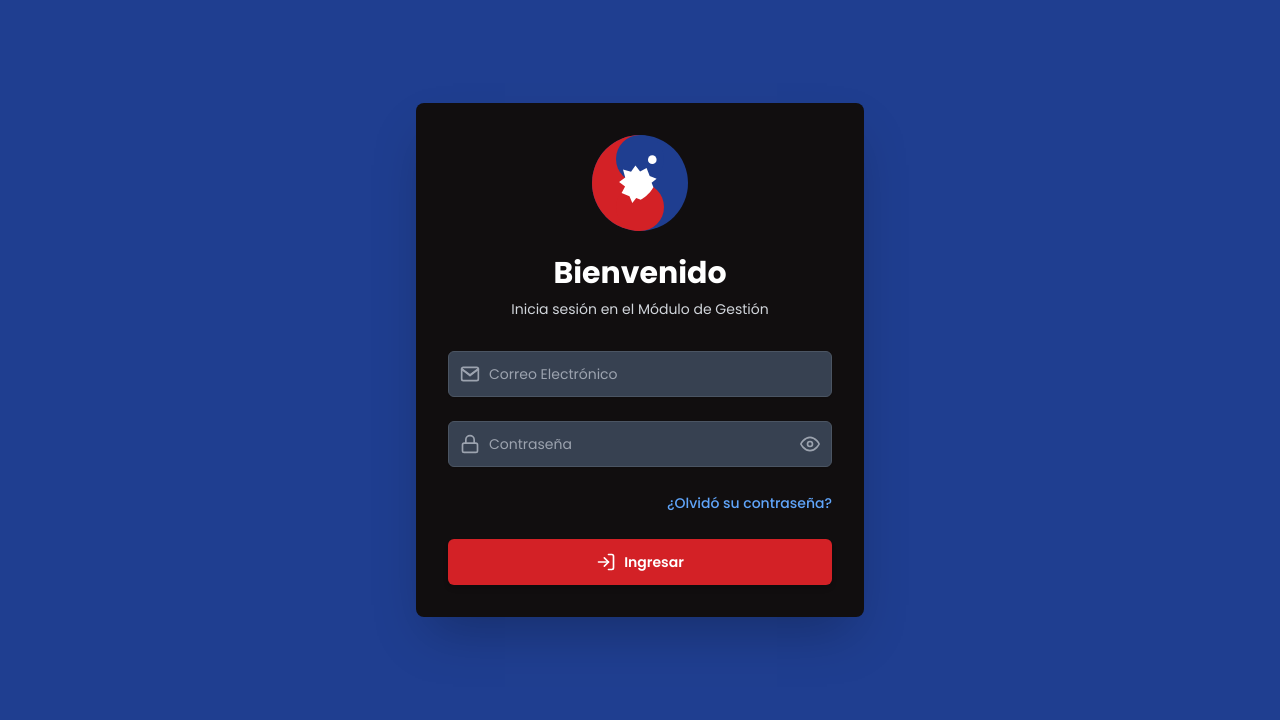
Test: Login Flow E2E › should allow a valid user to log in and see the dashboard
Type "admin@test.com" into the field with id "email" at (640, 374), box x1=448 y1=351 x2=832 y2=397
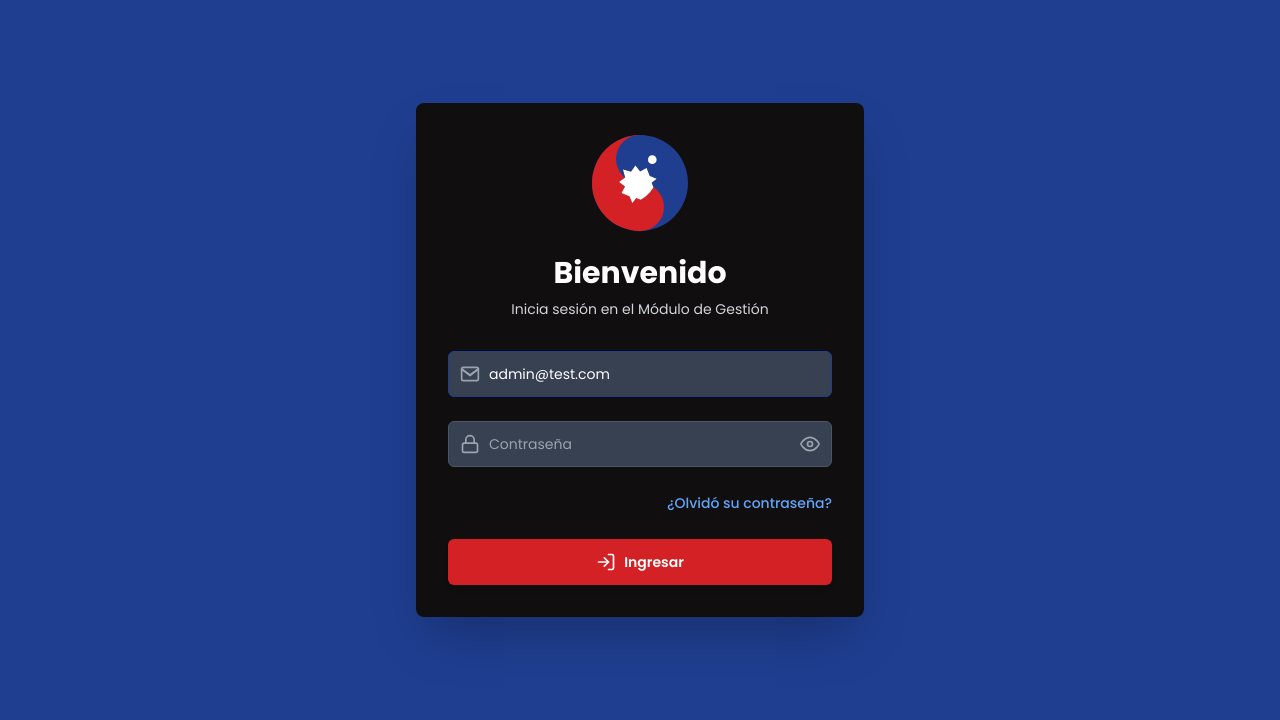
Type "admin123" into the password field with id "contrasena" at (640, 444), box x1=448 y1=421 x2=832 y2=467
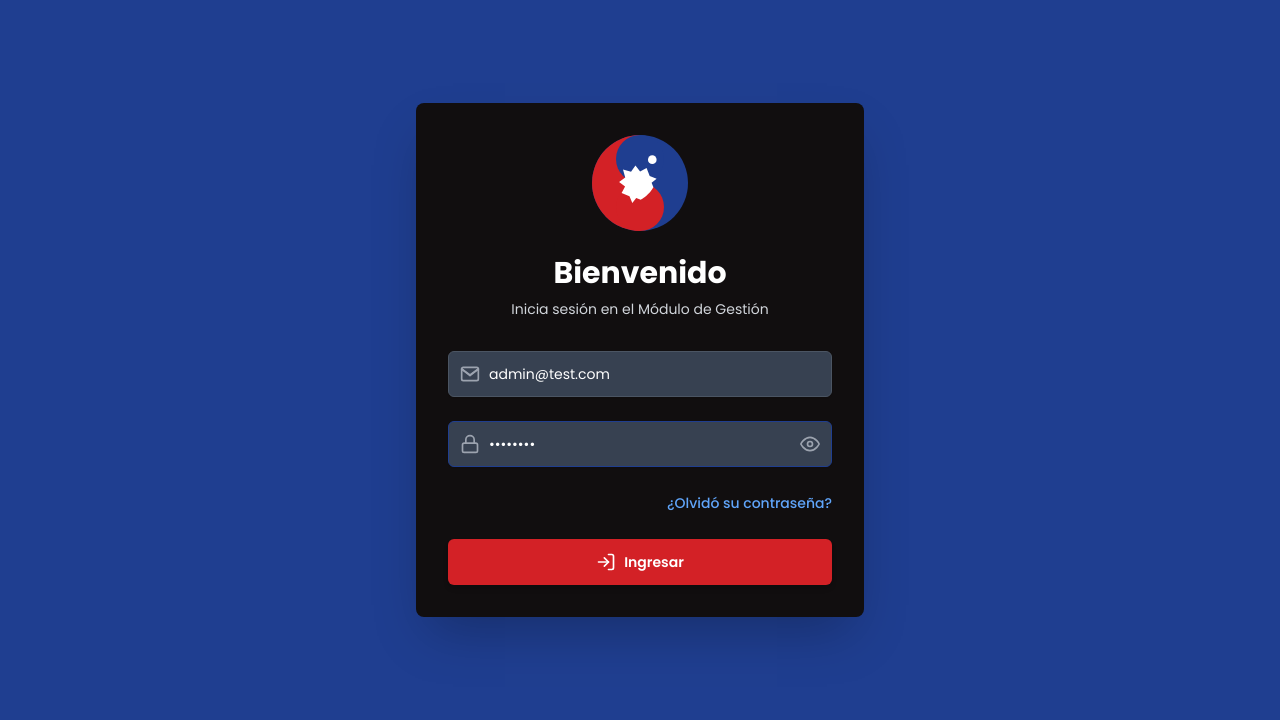
Click the submit button at (640, 562), box x1=448 y1=539 x2=832 y2=585
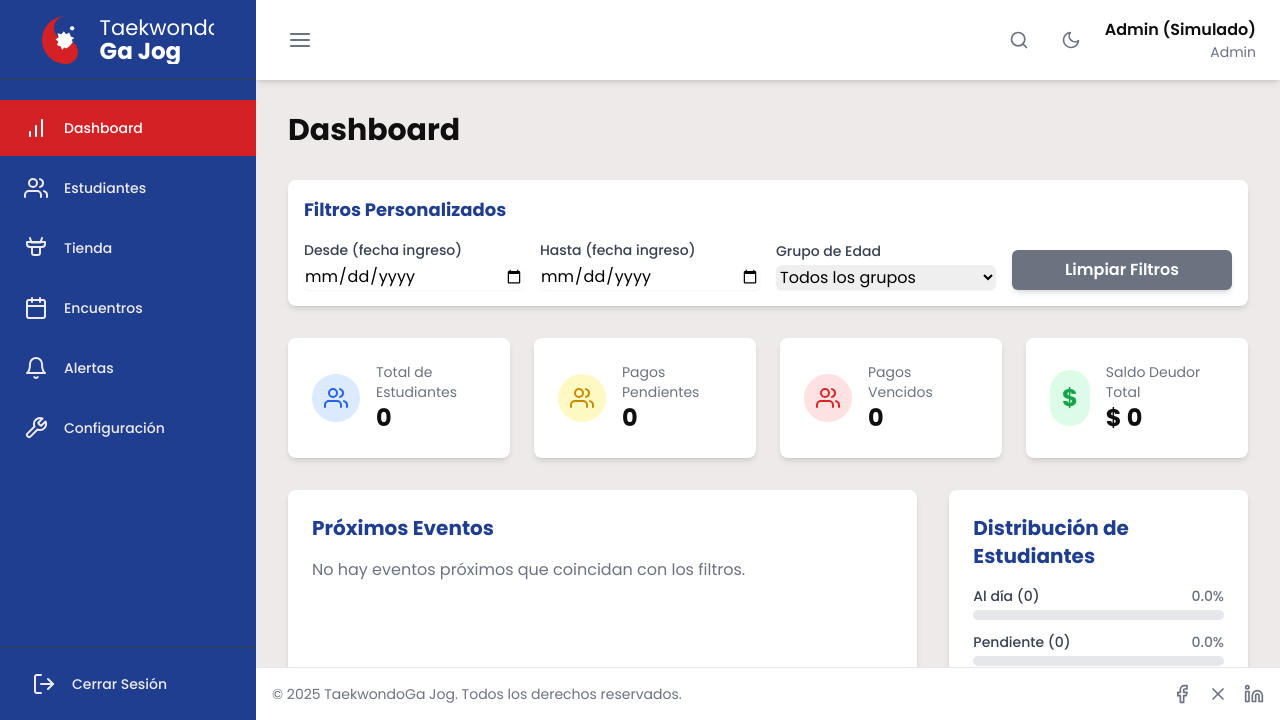
Now the heading "Dashboard" is shown, box x1=288 y1=109 x2=460 y2=151
